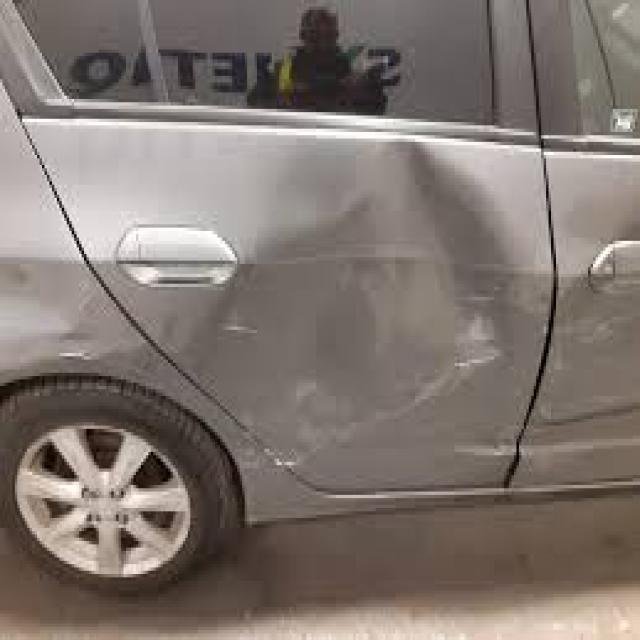damaged-door: (2, 0, 542, 498)
